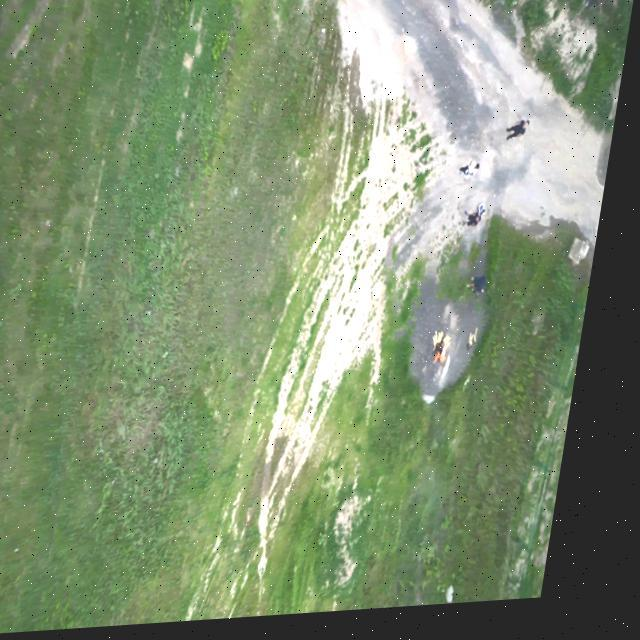Fire: (424, 315, 476, 379)
